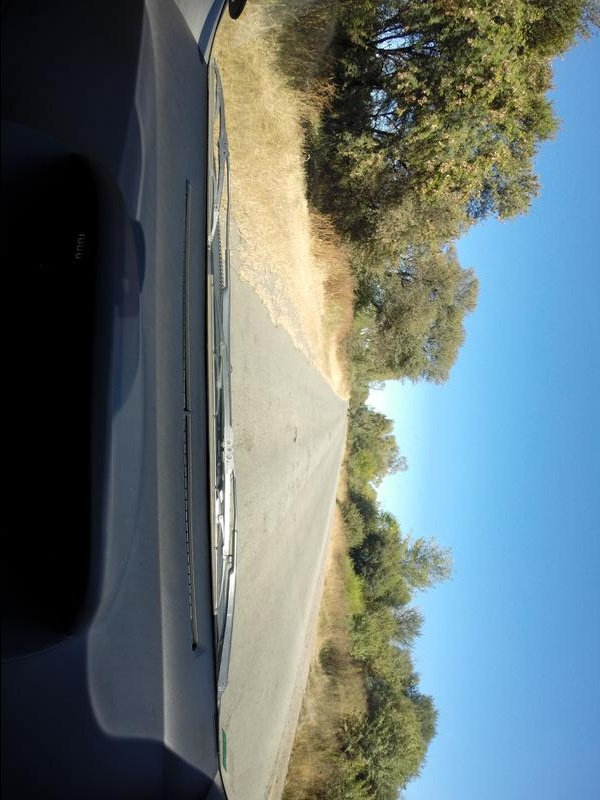pothole: (284, 423, 304, 444)
